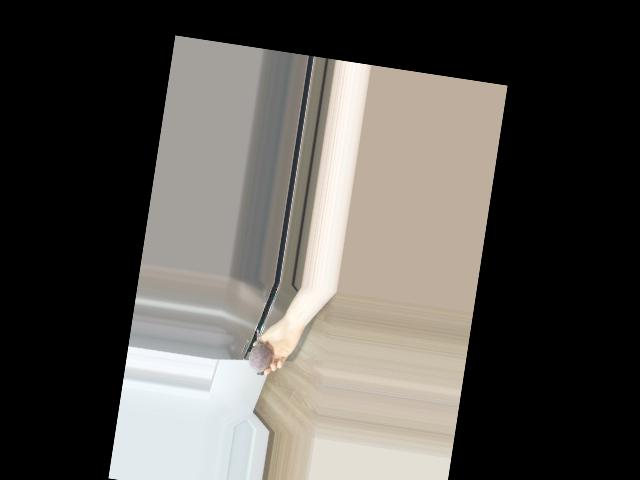beet: (247, 329, 274, 377)
